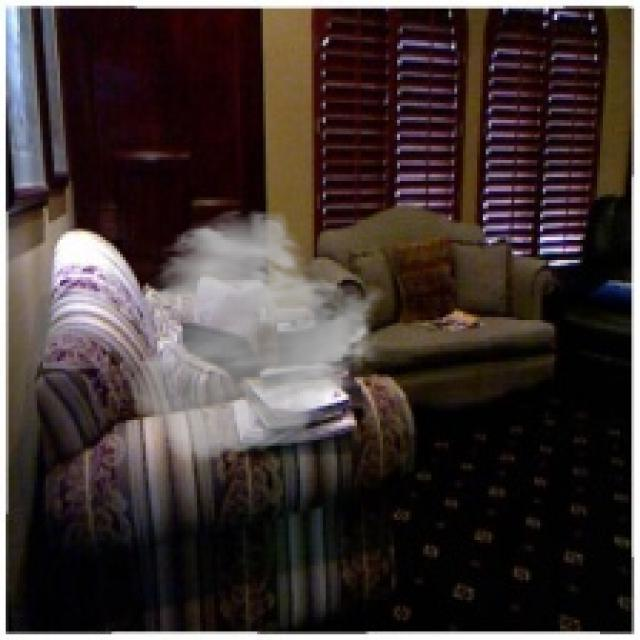smoke: (125, 206, 388, 463)
